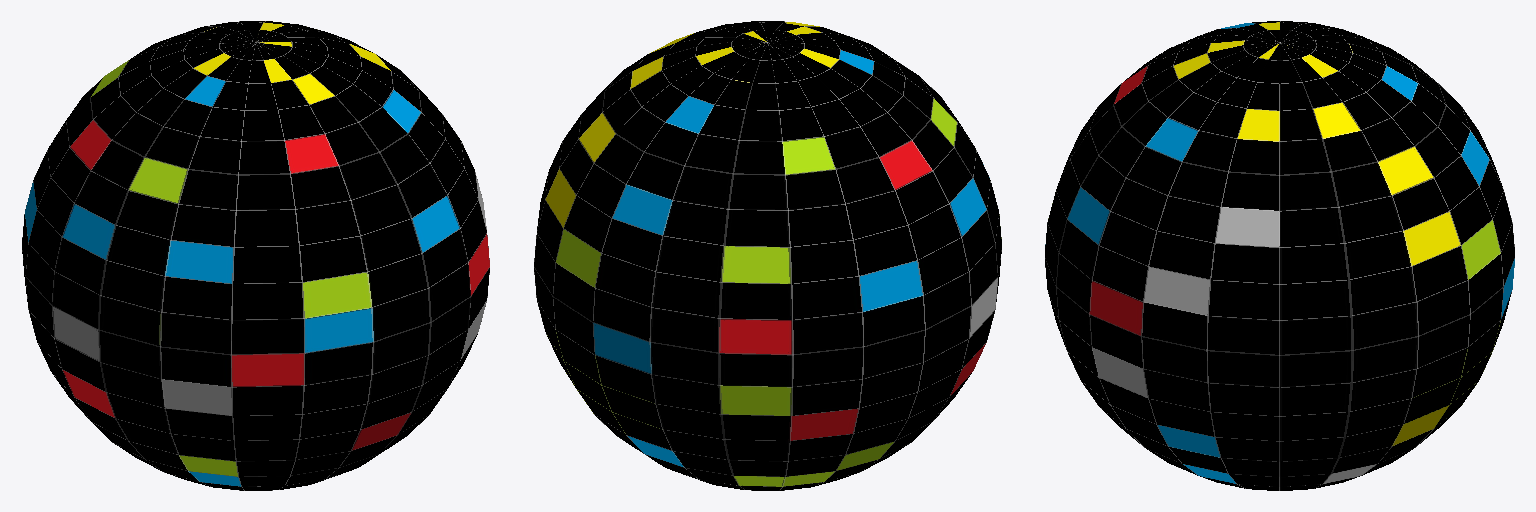
3 views of the same model, side by side, from view 1: azimuth 30°, elevation 25°; view 2: azimuth 150°, elevation 25°; view 3: azimuth 270°, elevation 25° (orthographic).
Parts seen in each view (by area): view 1: pSphere1; view 2: pSphere1; view 3: pSphere1.
Boxes of the visible parts, x1,y1,x2,y2 form: pSphere1: [22, 21, 489, 490]; pSphere1: [534, 21, 1001, 490]; pSphere1: [1045, 21, 1514, 490].
Bounding box in the file's own units: 2 × 2 × 2.
Materials: 1 (1 with a texture image).